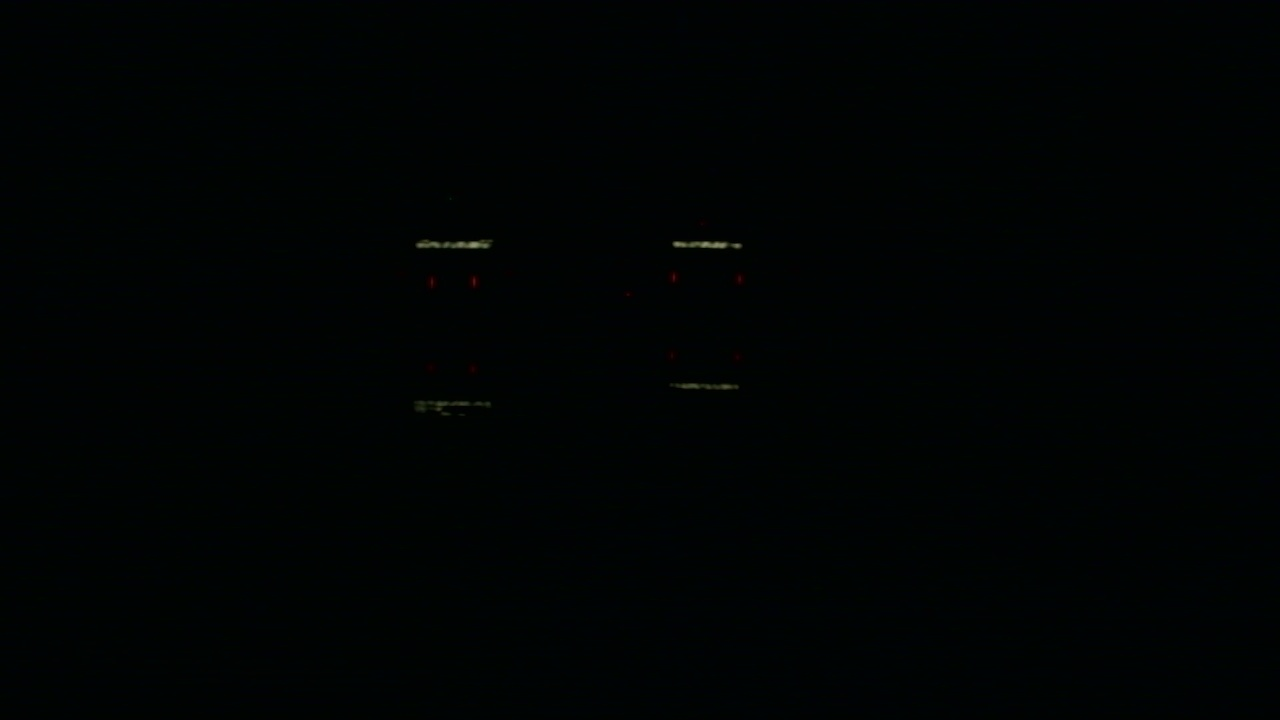lamp: (426, 274, 433, 295), (667, 271, 675, 285), (473, 273, 478, 293)
pair1: (428, 275, 478, 290)
pair2: (670, 271, 745, 286)
